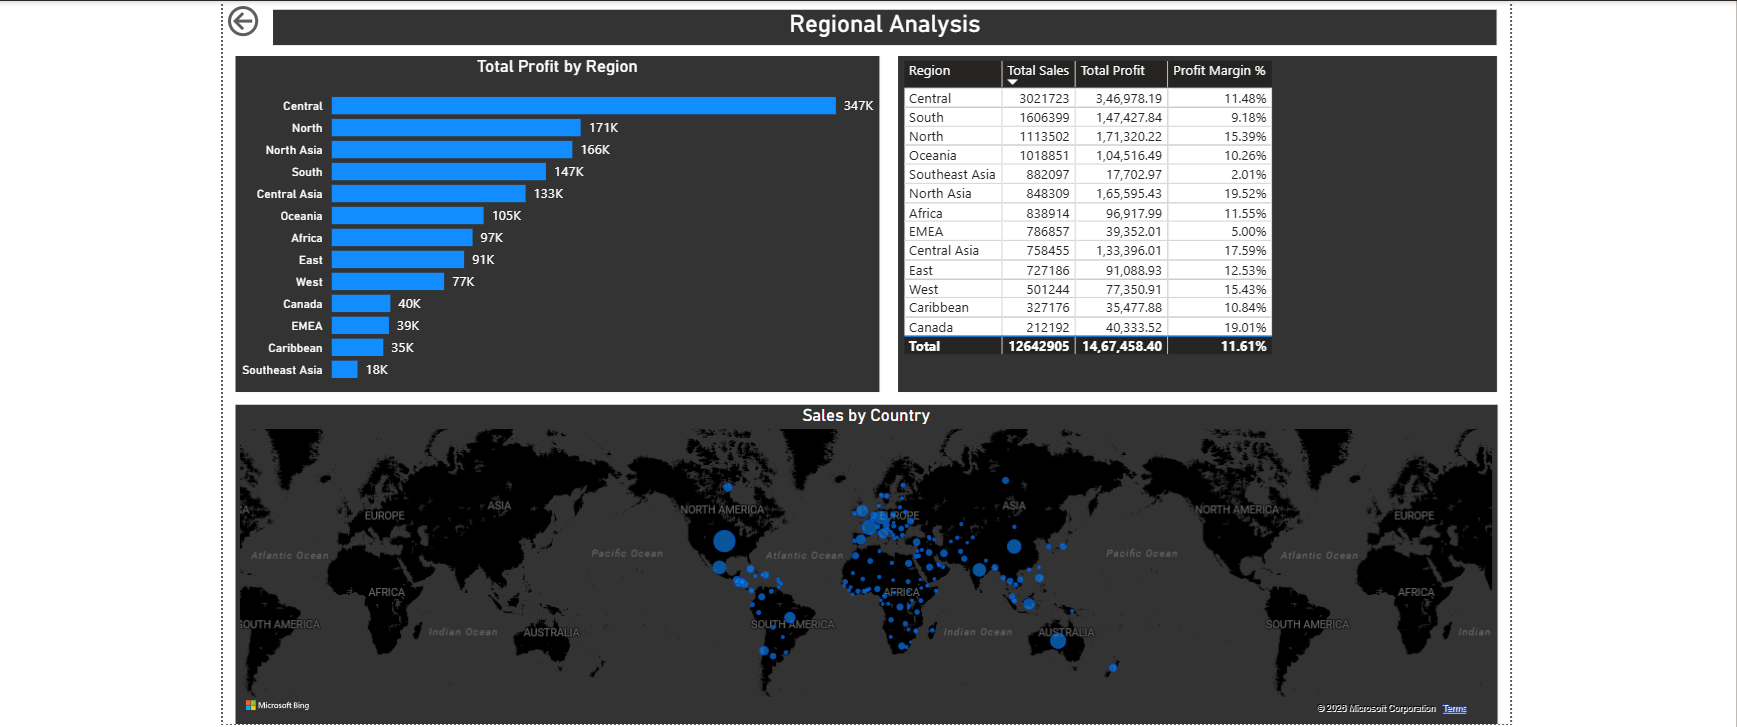

The page's visual inventory and layout, read from the dashboard file:
{"tool":"powerbi","page":{"name":"Regional Analysis","canvas":[1280,720],"ordinal":2},"visuals":[{"type":"barChart","title":"Total Profit by Region","fields":{"Y":["_Measures.Total Profit"],"Category":["dim_geography.region"]},"box":[12.4,54.7,640.6,334.6],"z":0},{"type":"tableEx","fields":{"Values":["dim_geography.region","_Measures.Total Sales","_Measures.Total Profit","_Measures.Profit Margin %"]},"box":[671.7,54.7,595.9,334.6],"z":1000},{"type":"map","title":"Sales by Country","fields":{"Size":["_Measures.Total Sales"],"Category":["dim_geography.country"]},"box":[12.4,401.8,1255.2,318.5],"z":2000},{"type":"actionButton","box":[0,0,100,40],"z":3000},{"type":"textbox","title":"Regional Analysis","box":[49.8,8.7,1217.8,34.8],"z":4000}]}

Visuals, with their boxes in screenshot pixels (x1, y1, x2, y2):
"Total Profit by Region" barChart: x1=234, y1=50, x2=873, y2=384
tableEx - dim_geography.region x _Measures.Total Sales: x1=892, y1=50, x2=1486, y2=384
"Sales by Country" map: x1=234, y1=396, x2=1486, y2=714
actionButton: x1=222, y1=0, x2=321, y2=35
"Regional Analysis" textbox: x1=271, y1=4, x2=1486, y2=39
